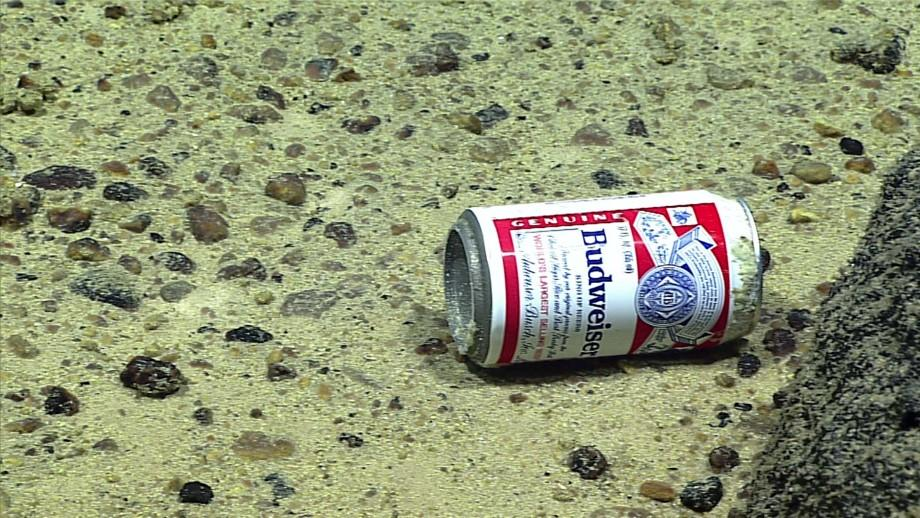metal: (443, 192, 761, 371)
